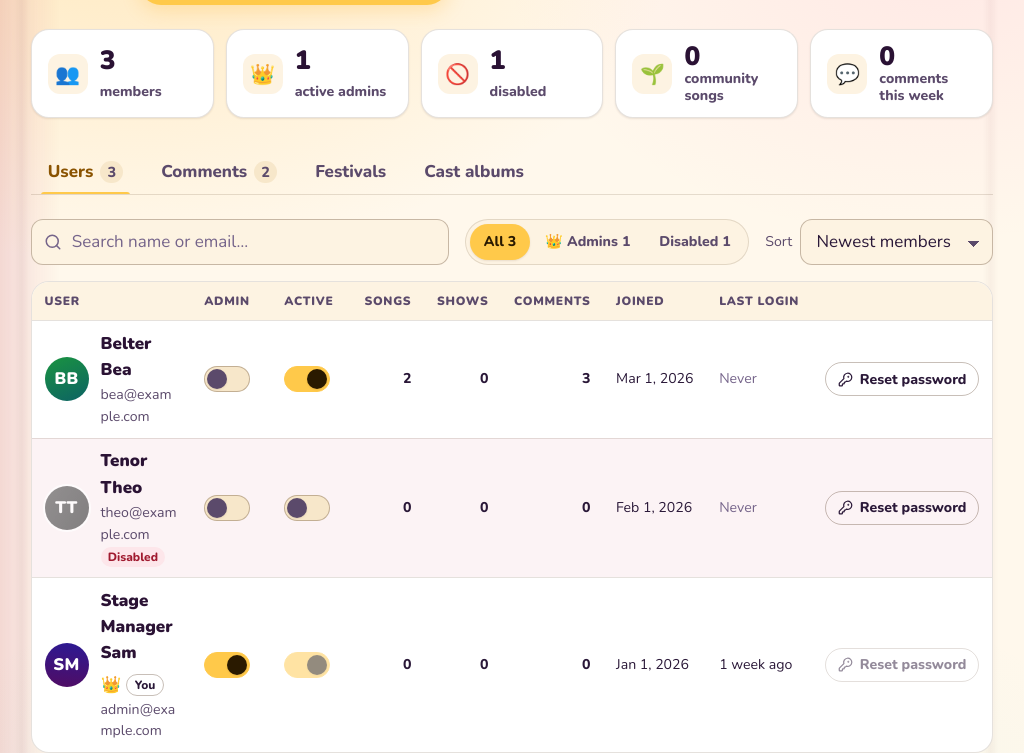
Test: AdminPage › explains a 409 (last admin) with a clear toast
(page scrolled)
expect the table with test id "users-table" is shown: met, box [32,282,992,752]
What coordinates should you click on to do the following:
click the switch with test id "user-role-switch"
I would click on:
 (231, 665)
Its box is [204,643,259,687].
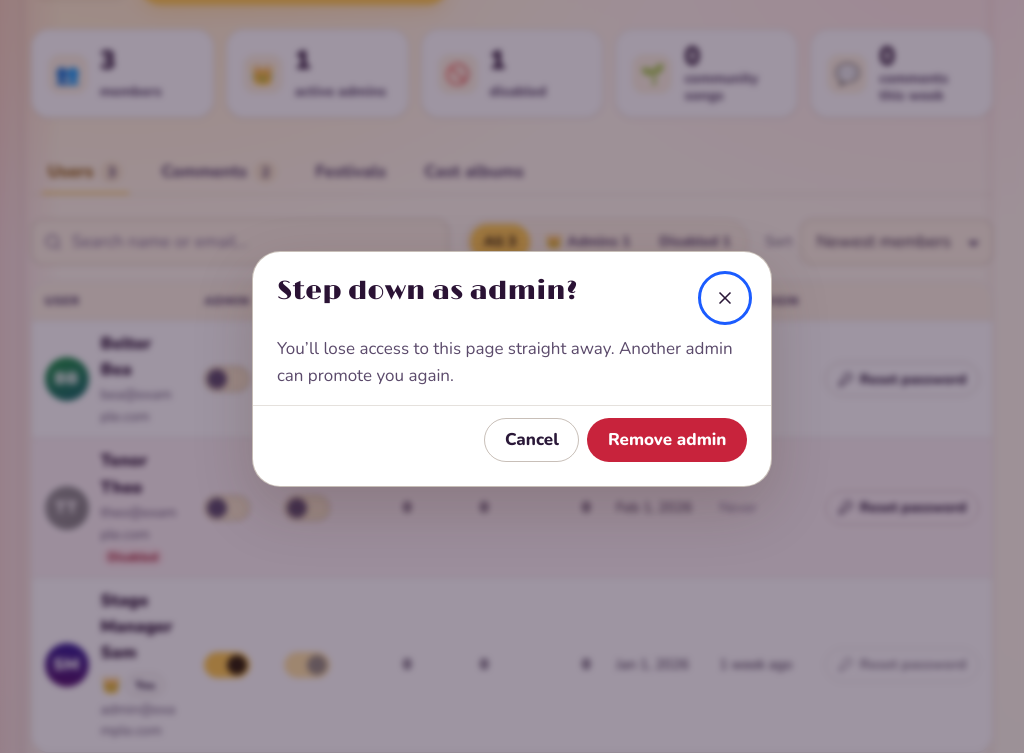
expect the heading "Step down as admin?" is shown: met, box [277,276,578,306]
What coordinates should you click on to do the following:
click the button with test id "confirm-button"
I would click on:
 (667, 440)
Its box is [587,418,747,462].
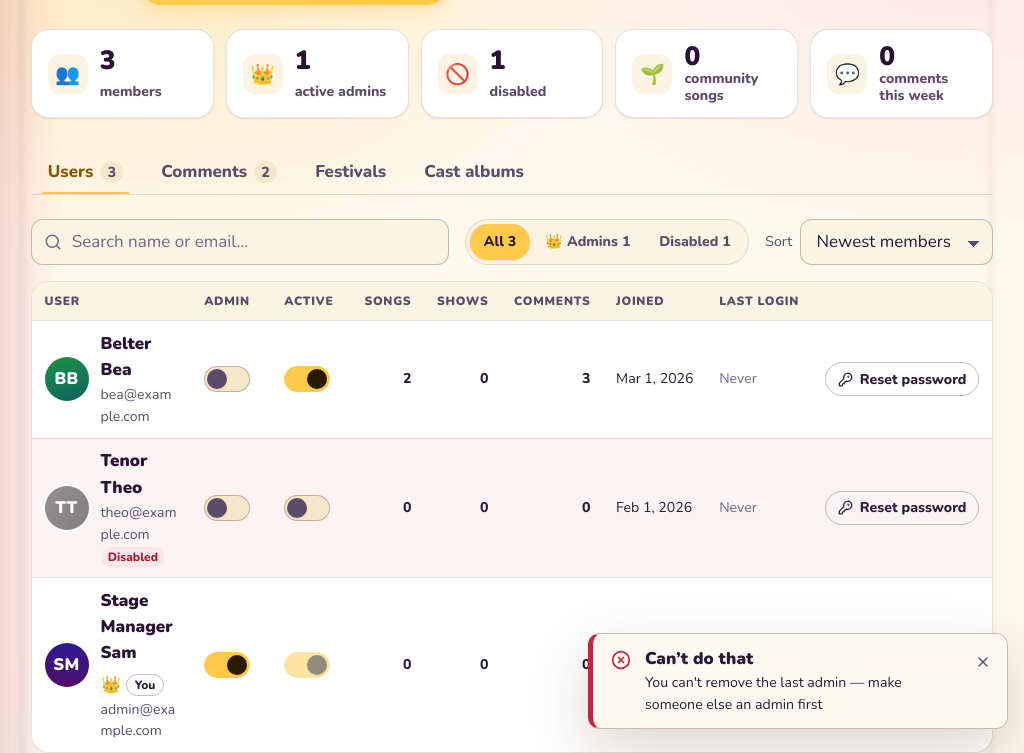
expect the switch with test id "user-role-switch" is checked: met, box [204,643,259,687]
expect the message with test id "toast" shows "Can’t do that": met, box [645,647,753,670]
expect the message with test id "toast" shows "last admin": met, box [645,673,902,714]
